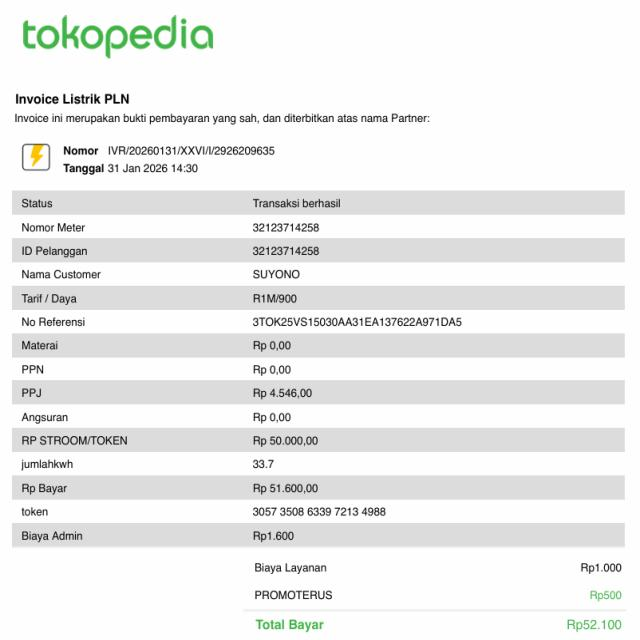date: (106, 160, 200, 176)
store: (18, 16, 222, 62), (12, 92, 142, 110)
total: (252, 615, 625, 640)
